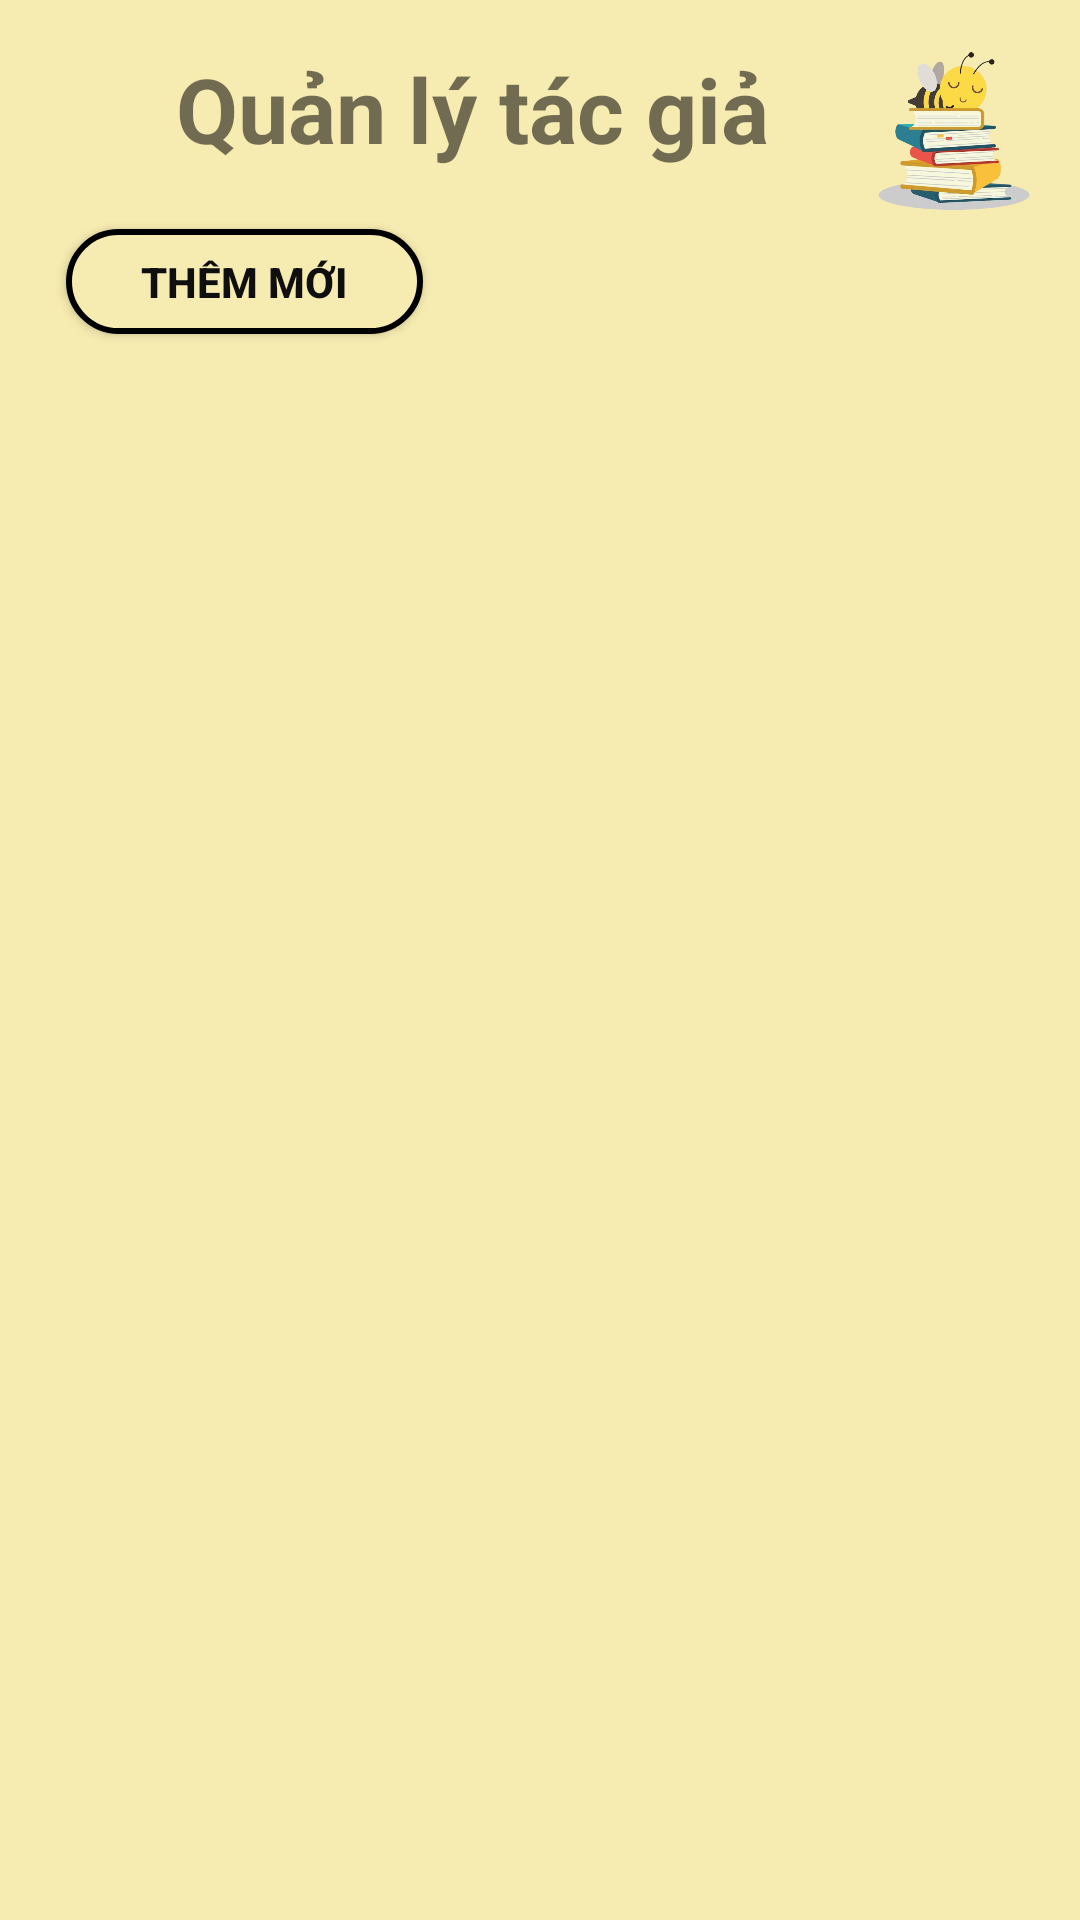

Screen size 1080 × 1920. Icon name, then its box in pixels as [x1,y1,x2,y2]:
ongsach: [879,52,1029,210]
